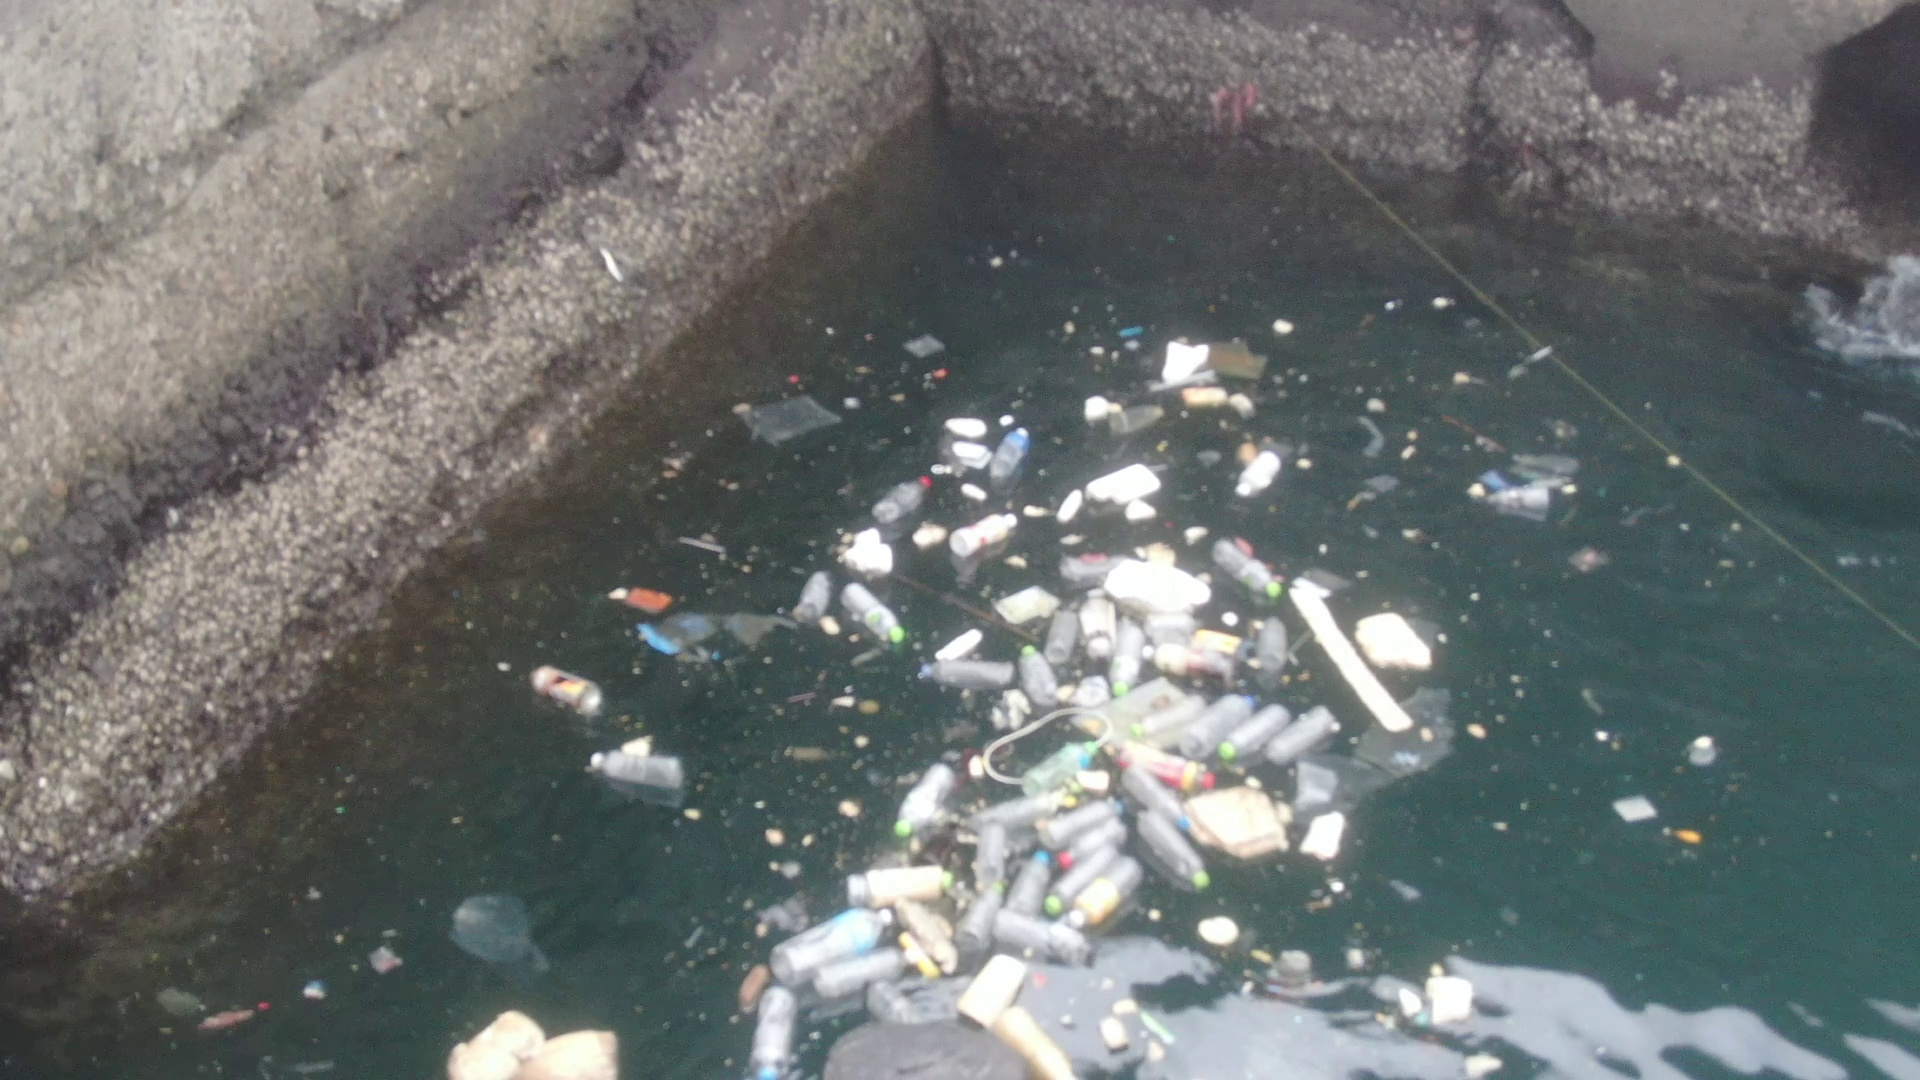bottle: (764, 887, 913, 988), (1134, 806, 1220, 897), (512, 654, 622, 723), (833, 570, 913, 655), (895, 745, 964, 843), (575, 745, 696, 799), (752, 969, 807, 1080), (1000, 843, 1062, 940), (1211, 529, 1287, 601), (1220, 702, 1295, 767), (1015, 636, 1071, 717), (986, 410, 1036, 491)
garbage: (695, 285, 1630, 692), (504, 518, 1472, 901), (352, 779, 1518, 1080)
